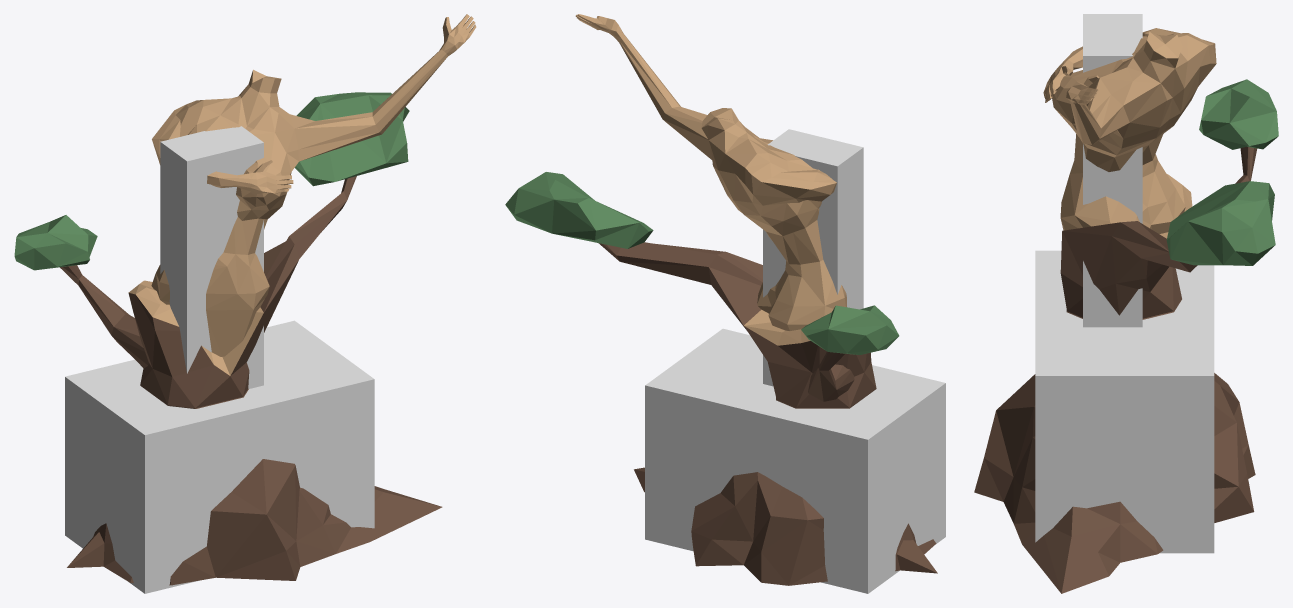
Rendered from elf_sculpture_goddess.glb.
3 renders of one model, left to right at view 1: azimuth 30°, elevation 25°; view 2: azimuth 150°, elevation 25°; view 3: azimuth 270°, elevation 25°, orthographic. The views are drawn at different scales.
Visible parts, largest first — view 1: sculptire_4, Cube.001, Cube.003; view 2: sculptire_4, Cube.001, Cube.003; view 3: sculptire_4, Cube.001, Cube.003.
Boxes of the visible parts, x1=… form: sculptire_4: x1=14, y1=14, x2=476, y2=585; Cube.001: x1=65, y1=320, x2=374, y2=593; Cube.003: x1=160, y1=126, x2=263, y2=388; sculptire_4: x1=505, y1=14, x2=937, y2=585; Cube.001: x1=645, y1=328, x2=945, y2=593; Cube.003: x1=763, y1=129, x2=863, y2=386; sculptire_4: x1=974, y1=28, x2=1278, y2=593; Cube.001: x1=1035, y1=250, x2=1214, y2=553; Cube.003: x1=1083, y1=14, x2=1142, y2=327.
Size of the model in its own units: 3.1 by 3.55 by 1.84.
1 material, 1 textured.
